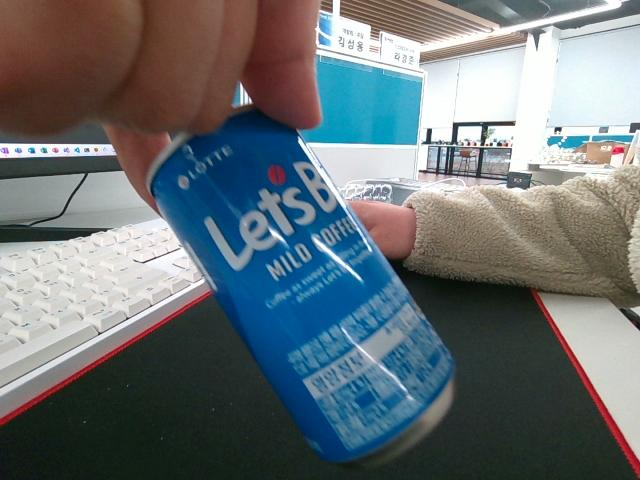letsbe: (143, 99, 456, 468)
